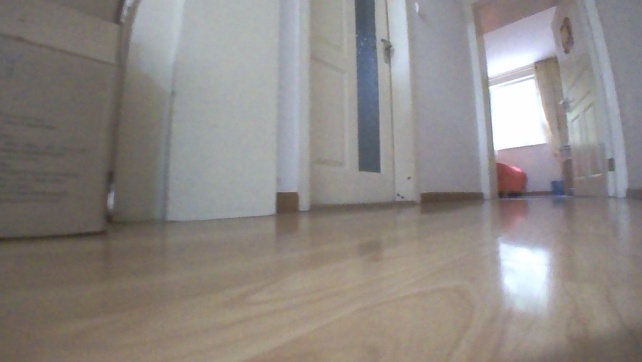door_anno: (302, 0, 406, 212), (547, 0, 621, 200)
